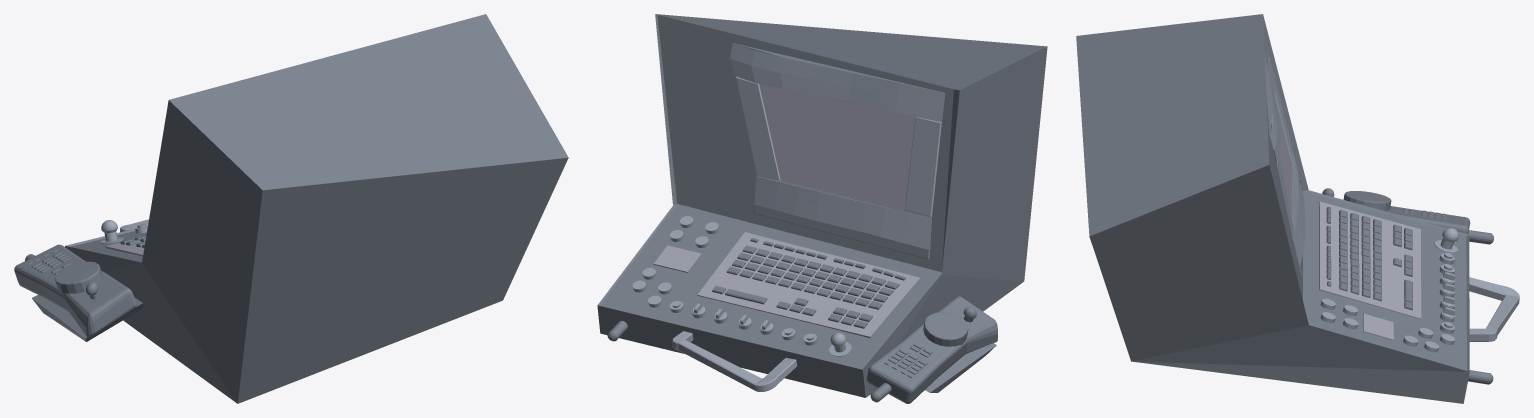
Rendered from other_cutter-machine_001.fbx.
3 renders of one model, left to right at view 1: azimuth 30°, elevation 25°; view 2: azimuth 150°, elevation 25°; view 3: azimuth 270°, elevation 25°, orthographic. The views are drawn at different scales.
Visible parts, largest first — view 1: other.cutter-machine.001; view 2: other.cutter-machine.001; view 3: other.cutter-machine.001.
Boxes of the visible parts, x1,y1,x2,y2 form: other.cutter-machine.001: [14, 14, 568, 403]; other.cutter-machine.001: [597, 14, 1047, 403]; other.cutter-machine.001: [1076, 14, 1519, 403].
Size of the model in its own units: 0.3426 by 0.2229 by 0.3454.
